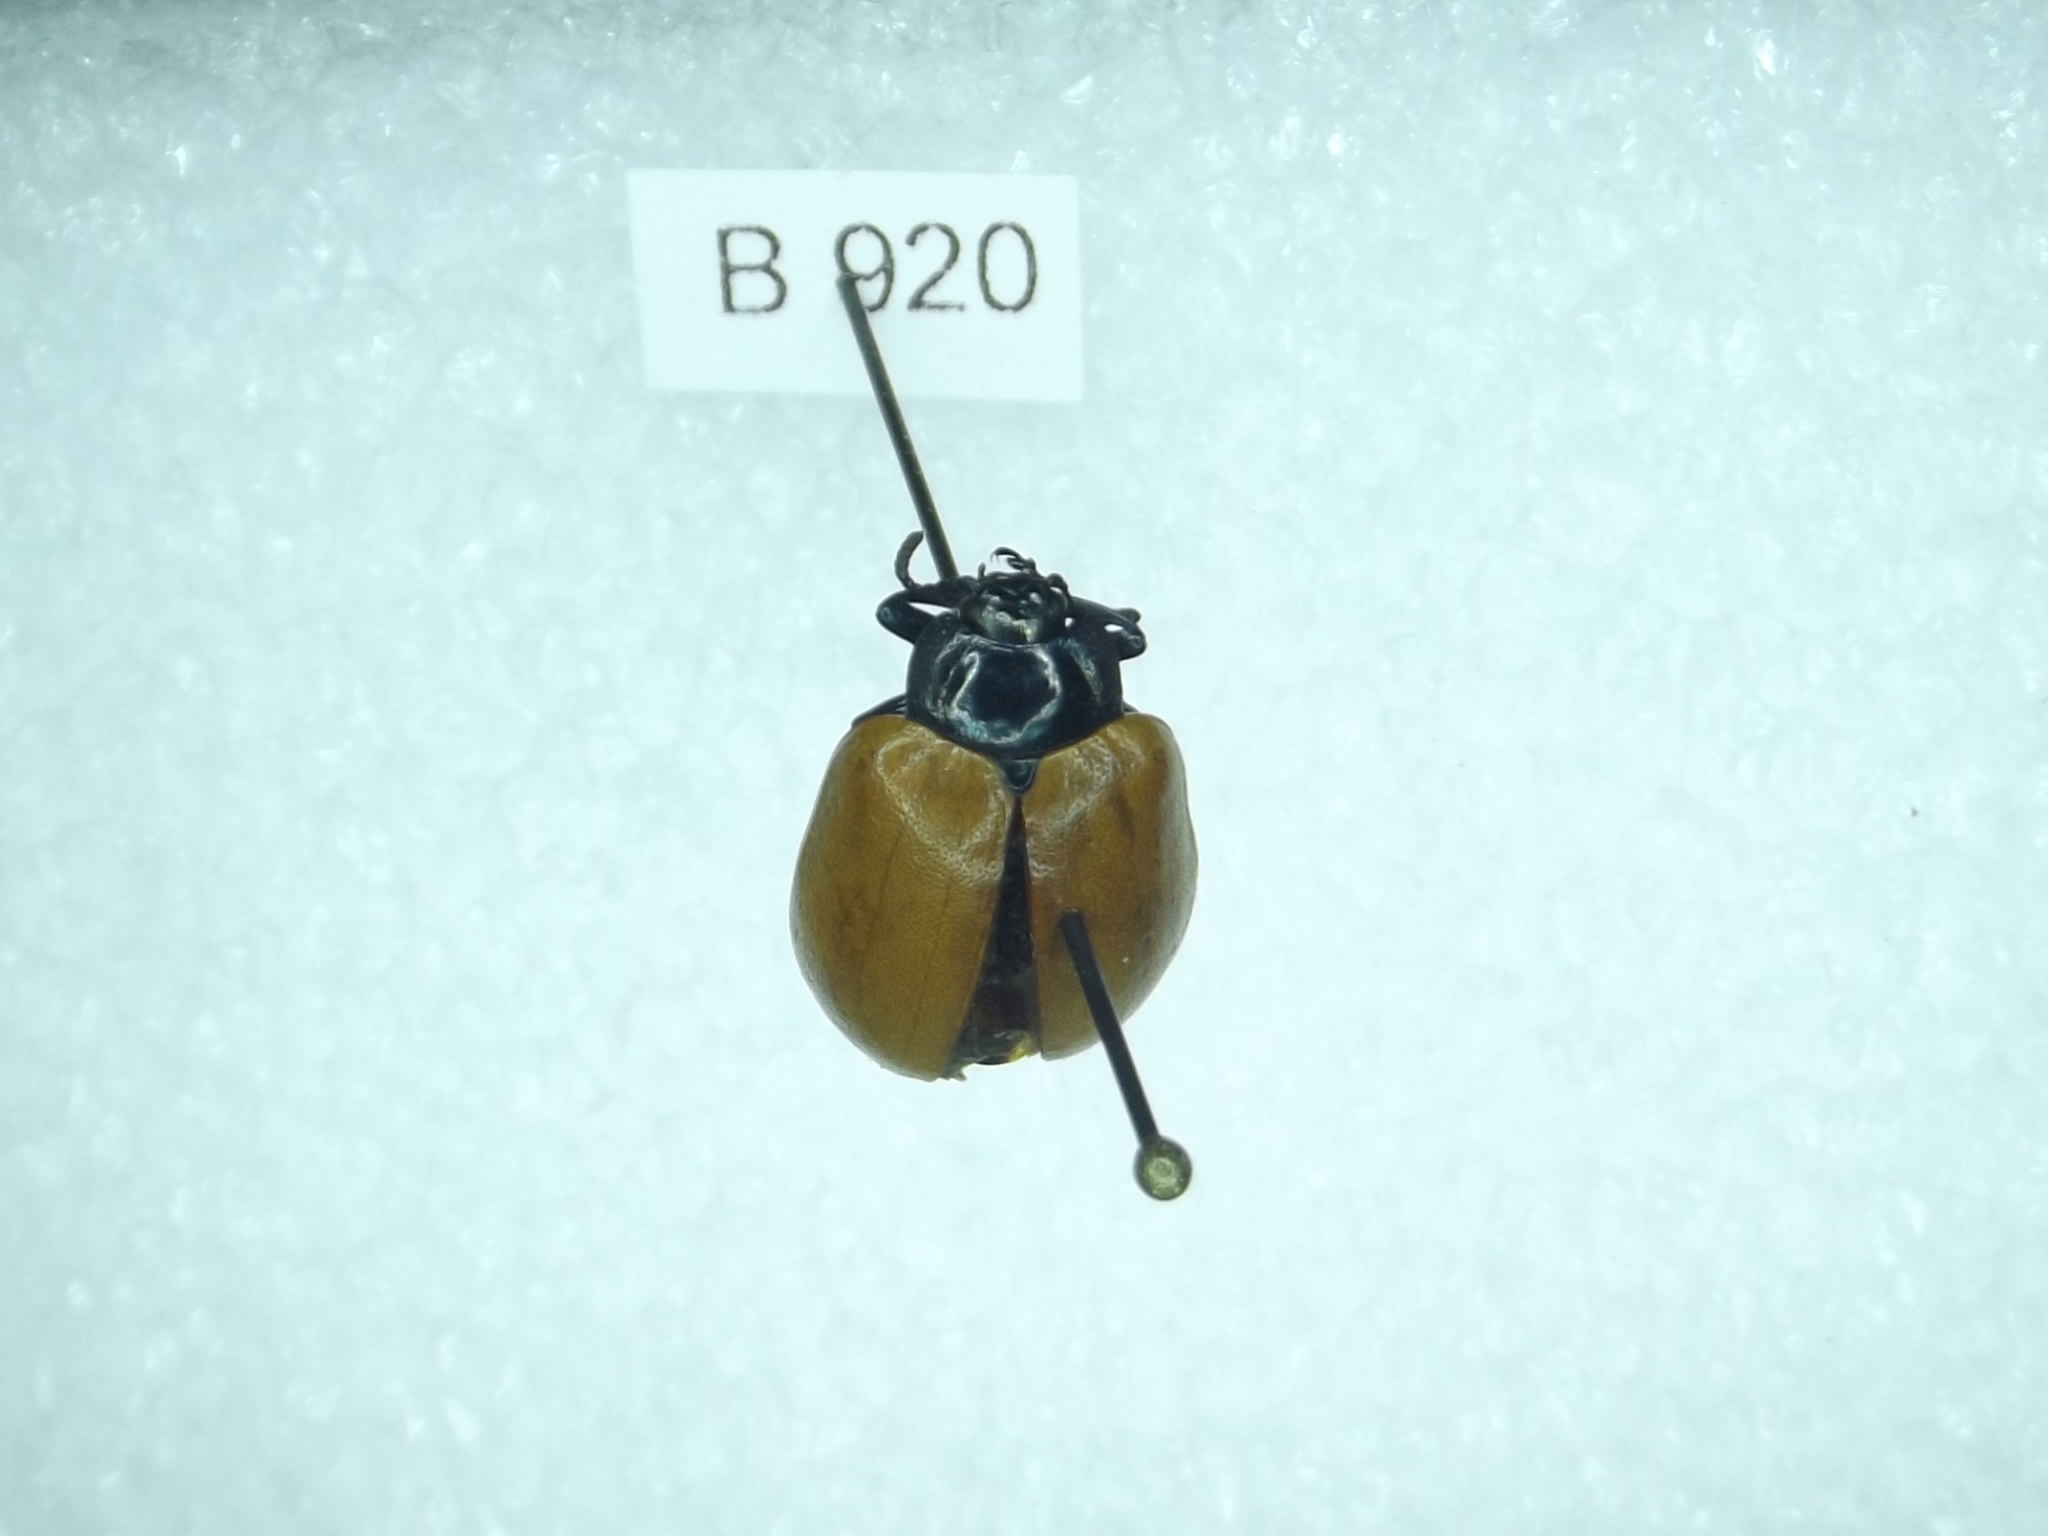Chrysomela_populi: (782, 531, 1205, 1097)
